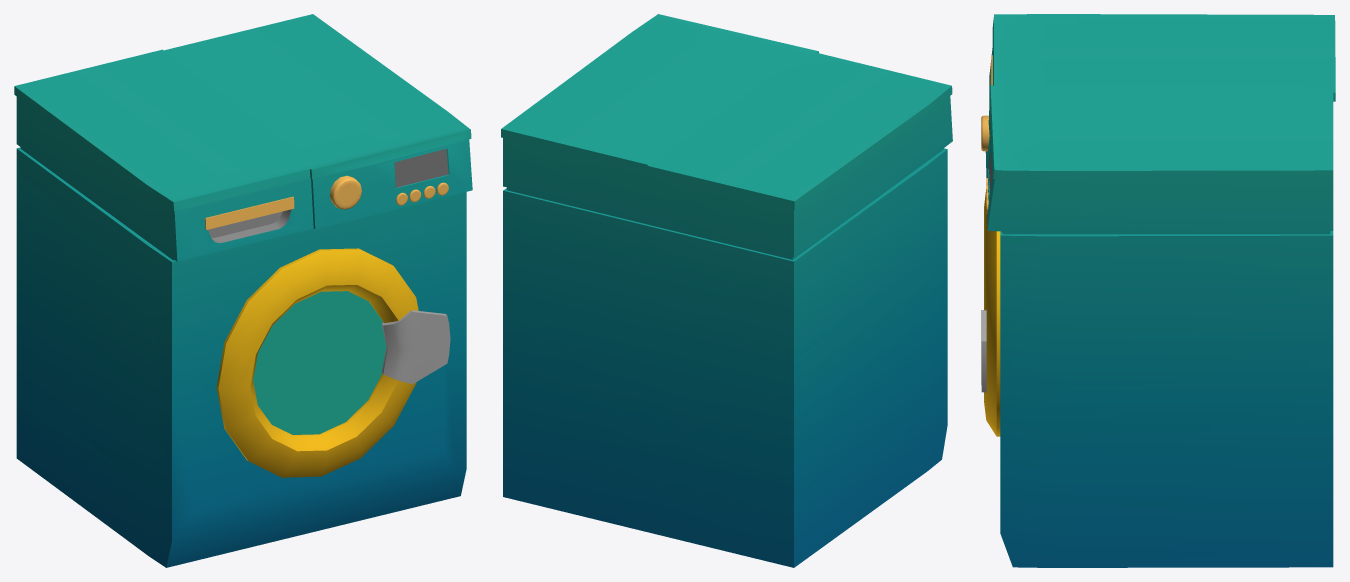
The model's file is BlueWasher.fbx.
3 views of the same model, side by side, from view 1: azimuth 30°, elevation 25°; view 2: azimuth 150°, elevation 25°; view 3: azimuth 270°, elevation 25° (orthographic). The views are drawn at different scales.
Visible parts, largest first — view 1: Washer.003, WasherLid.003; view 2: Washer.003; view 3: Washer.003, WasherLid.003.
Part boxes in pixels (box(x1,y1,x2,y2)): Washer.003: box(14, 14, 472, 567); WasherLid.003: box(216, 248, 450, 477); Washer.003: box(501, 14, 952, 567); Washer.003: box(981, 14, 1335, 567); WasherLid.003: box(981, 189, 1000, 436).
Size of the model in its own units: 104 by 123 by 99.44.
